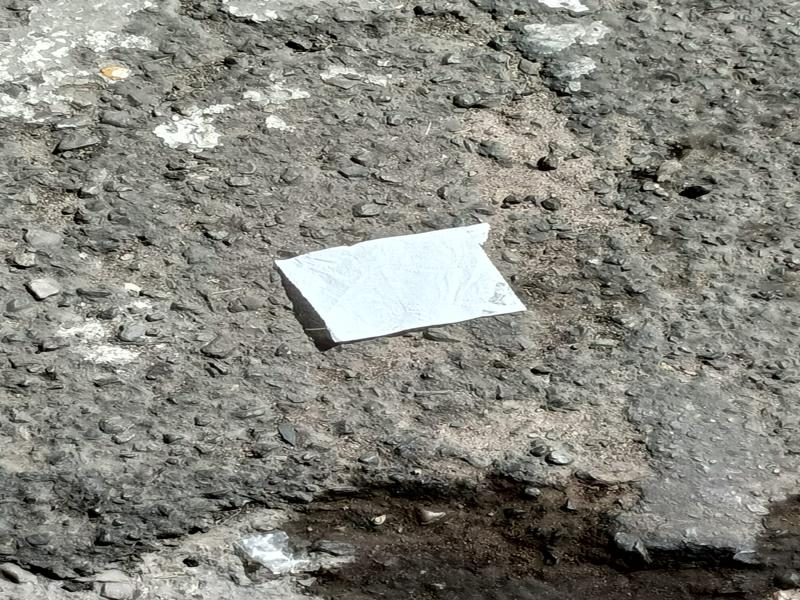papel: (274, 223, 527, 345)
